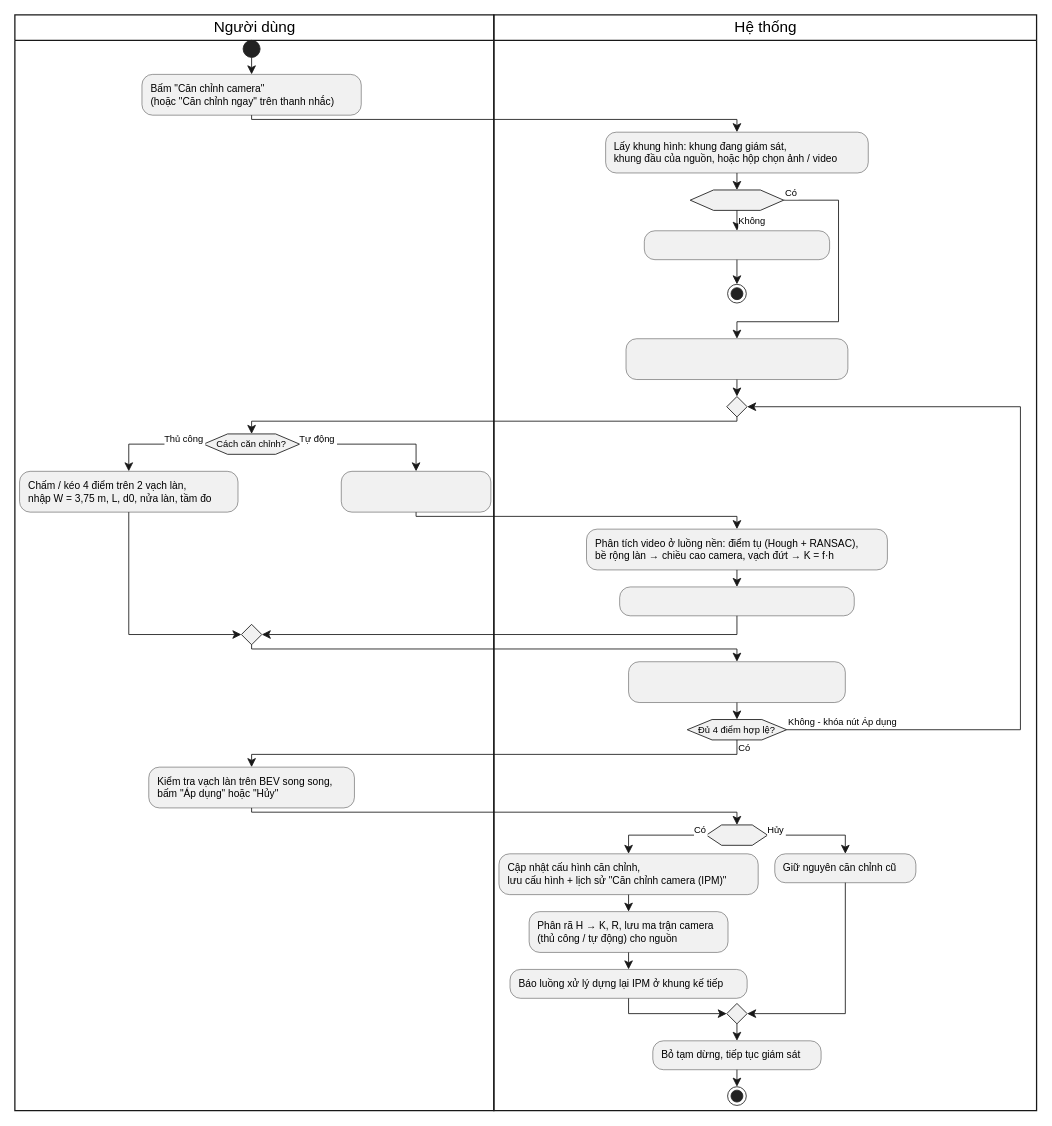
The diagram is 1052 pixels wide and 1126 high, and some of its shapes have lost their labels. The shapes that lost their labels are listed below. From the top down, each one's centre as x and y in pixels, then its label:
[736,199]: Có khung hình?
[736,245]: Báo "Không đọc được khung hình"
[736,358]: Tạm dừng giám sát, mở cửa sổ căn chỉnh với khung hình và 4 điểm hiện tại
[416,491]: Bấm "Tự động căn chỉnh", nhập tốc độ xe trong video
[736,601]: Tự điền 4 điểm và thông số (method = auto)
[736,681]: Tính homography H, vẽ BEV (lưới 10 m), chân trời, tiêu cự, chiều cao, góc chúc
[737,834]: Áp dụng?
